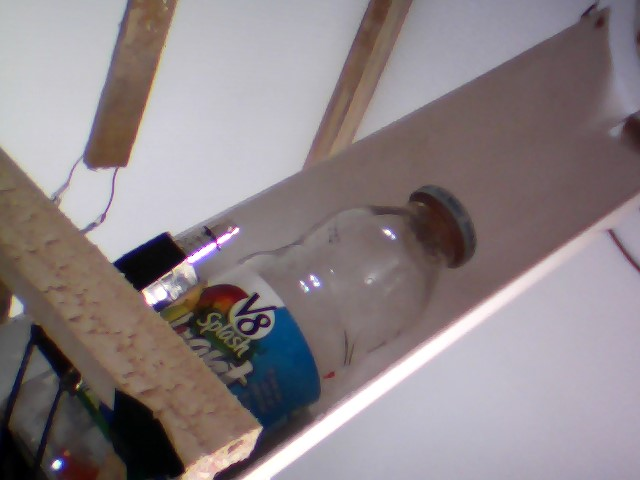vidrio: (169, 174, 494, 427)
